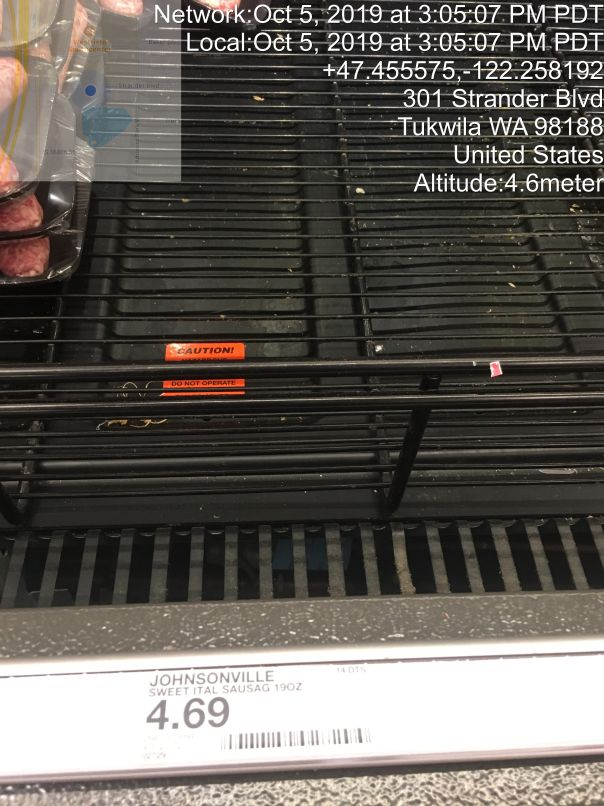Label: (139, 658, 377, 760)
Location: (397, 82, 604, 171)
Time: (152, 4, 604, 57)
Void: (114, 82, 540, 447)
